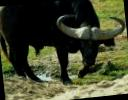Buffalo: (0, 0, 128, 83)
